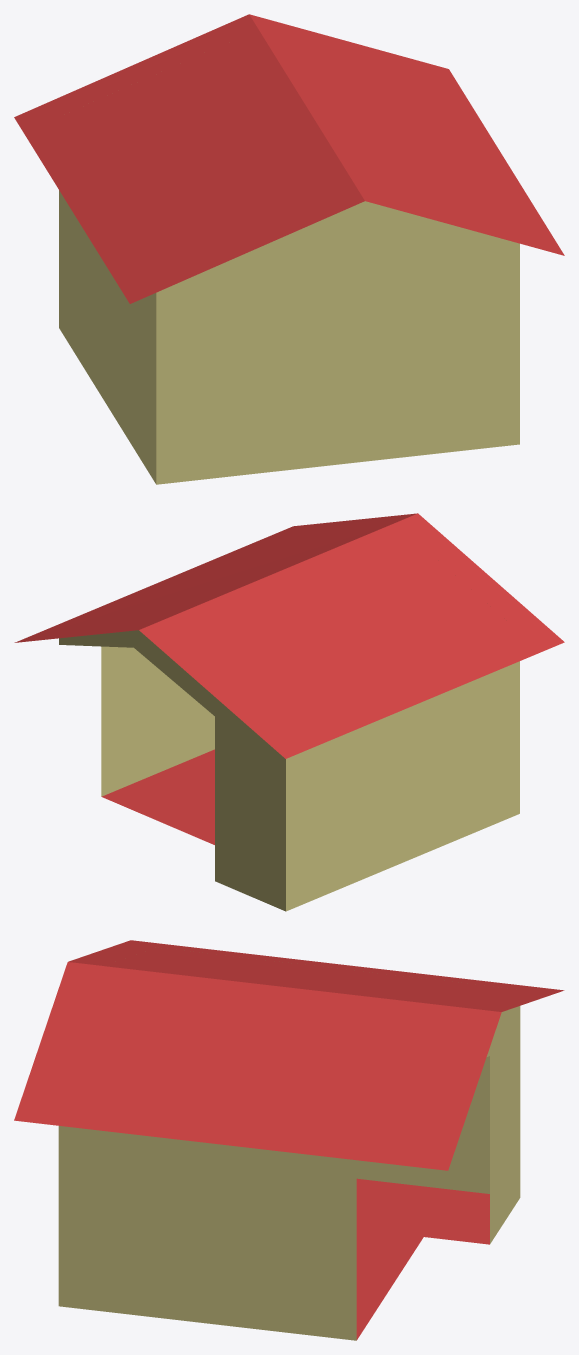
3 renders of one model, top to bottom at view 1: azimuth 30°, elevation 25°; view 2: azimuth 150°, elevation 25°; view 3: azimuth 270°, elevation 25°, orthographic. The views are drawn at different scales.
Size of the model in its own units: 15.02 by 15.16 by 8.27.
